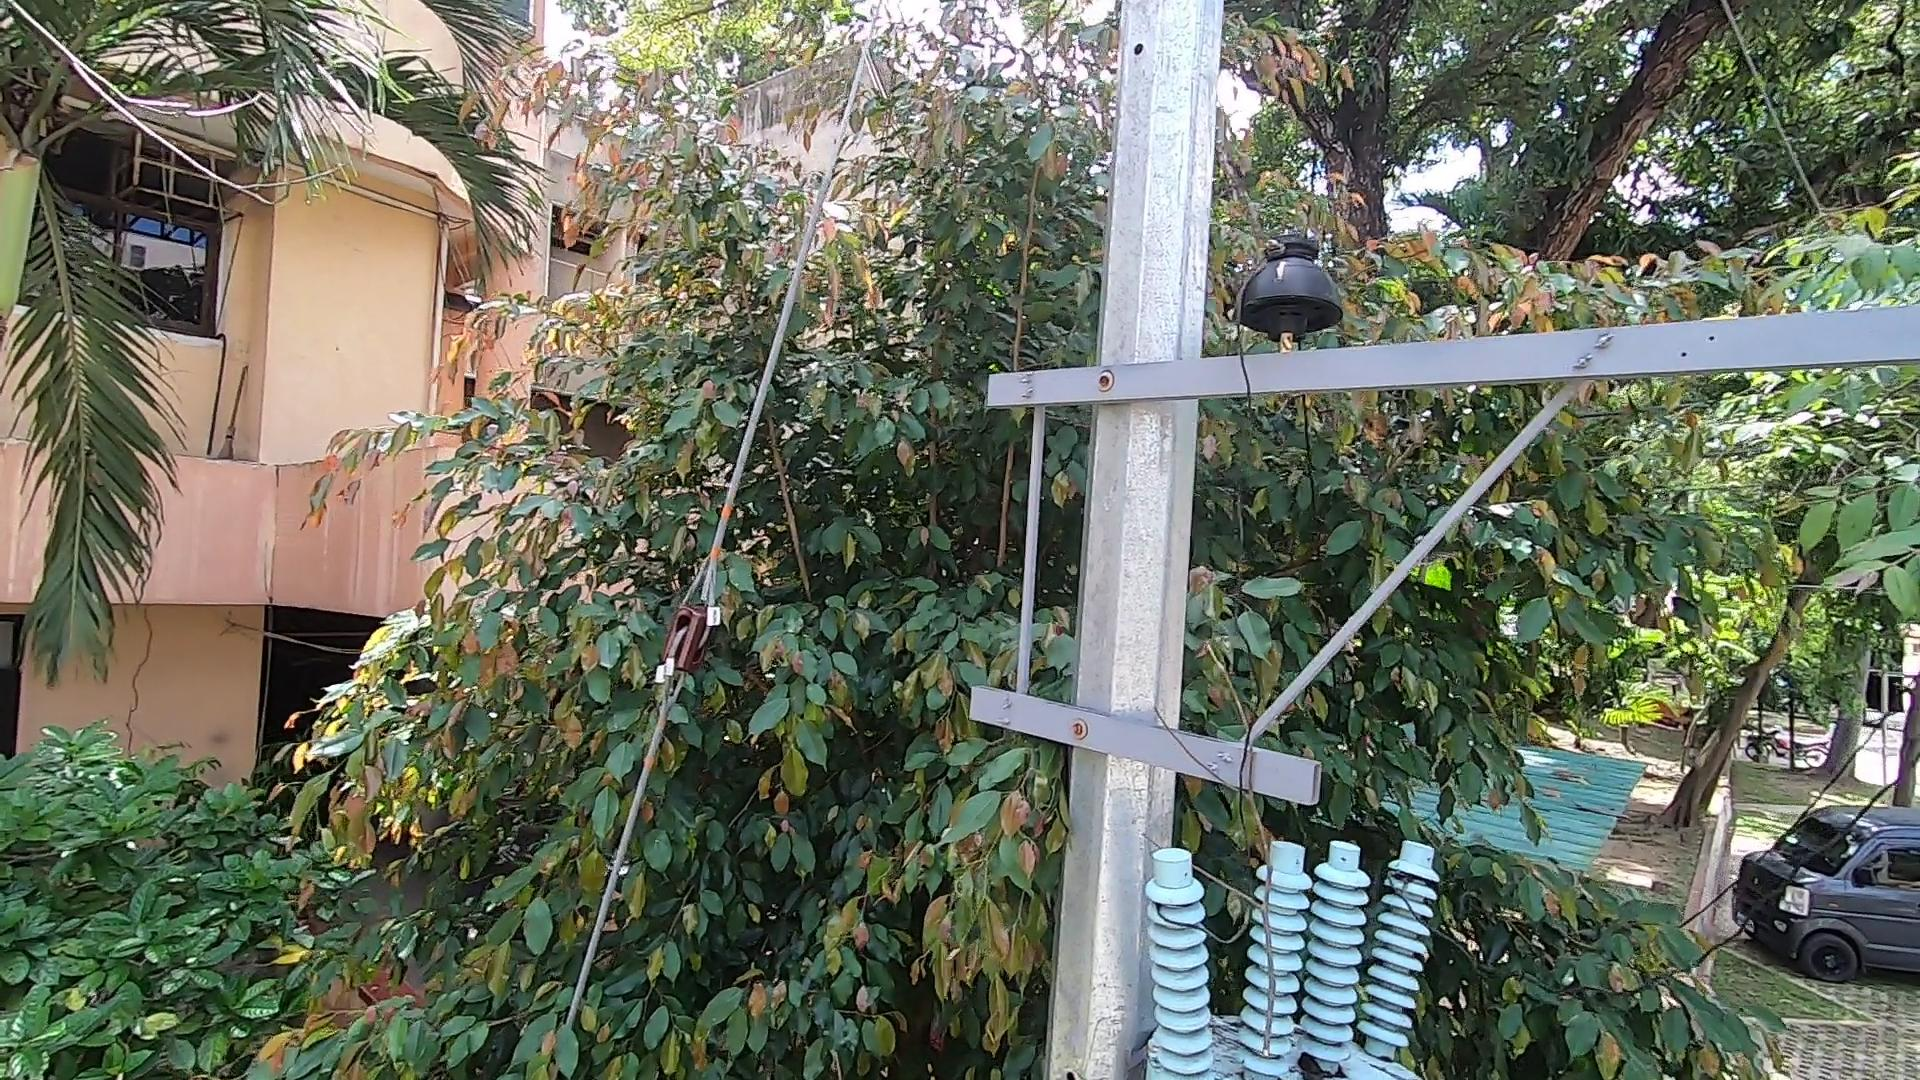leaf: (1299, 1054, 1333, 1080)
tree branch: (1139, 603, 1311, 1059)
